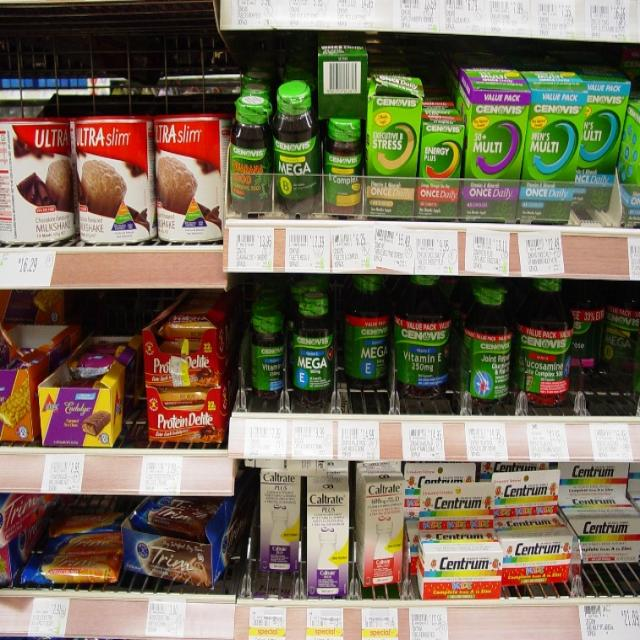q184: (419, 115, 461, 216)
q199: (73, 115, 154, 247), (158, 109, 229, 248), (0, 111, 74, 242)
